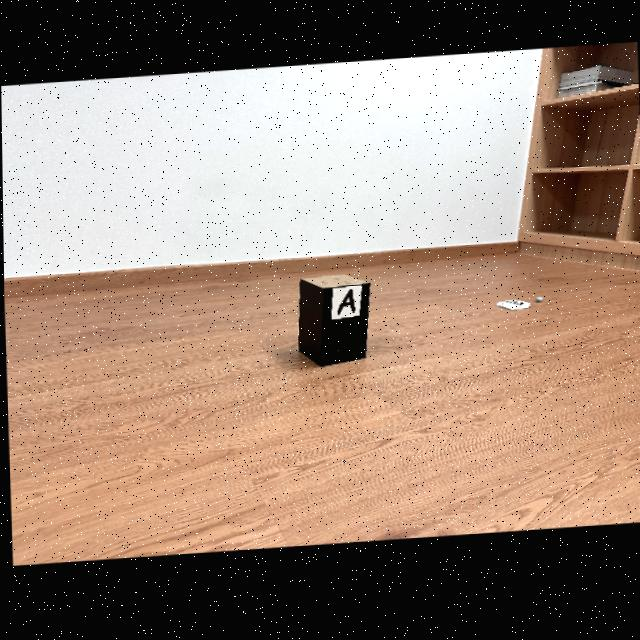A: (336, 293, 354, 316)
